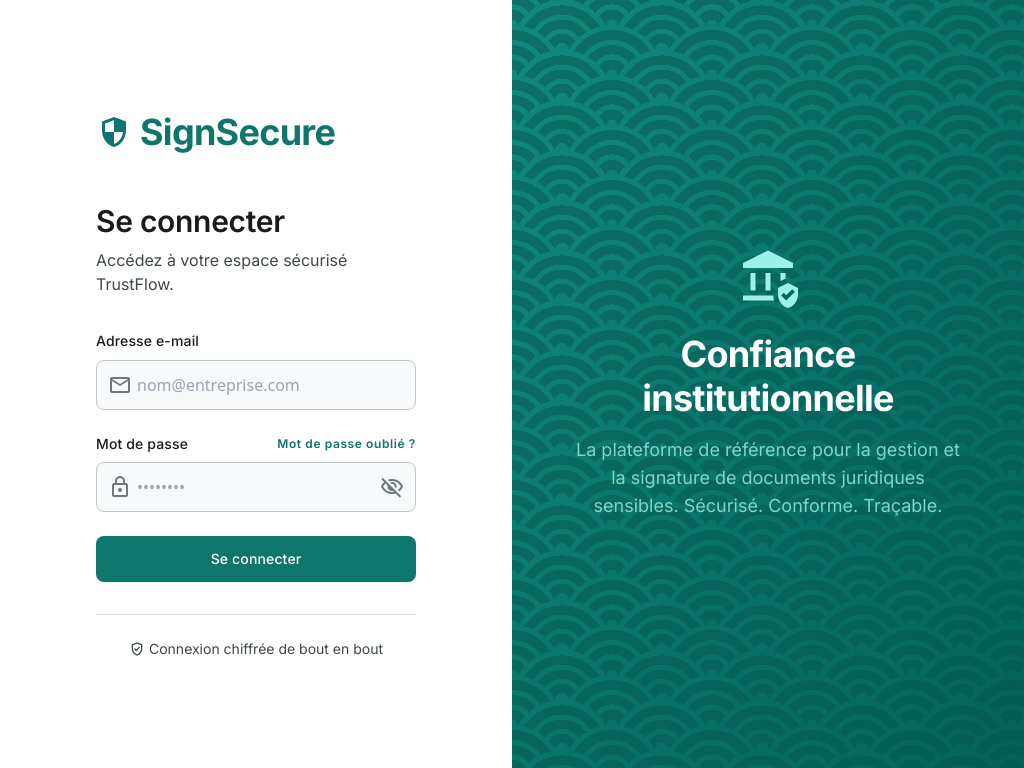
it: Login › surfaces the API error message instead of navigating away on failure
The width and height of the screenshot is (1024, 768).
Type "admin@entreprise.com" into the field labelled "Adresse e-mail" at (256, 384), box [96,360,416,410]
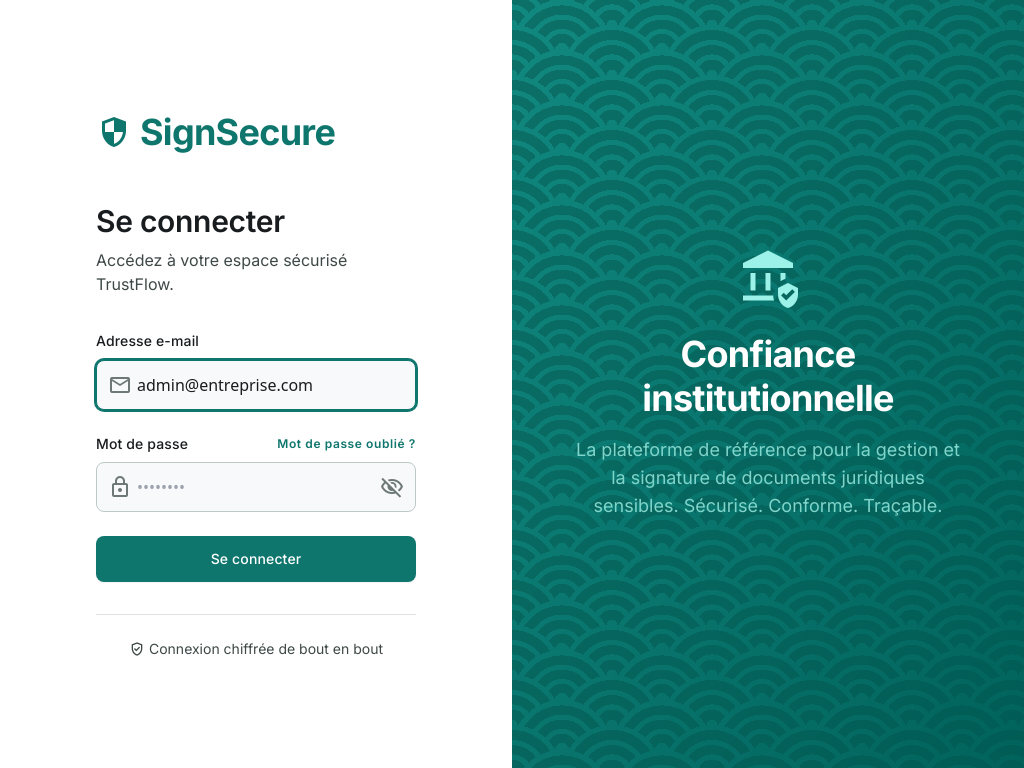
Type "wrong-password" into the password field labelled "Mot de passe" at (256, 486), box [96,462,416,512]
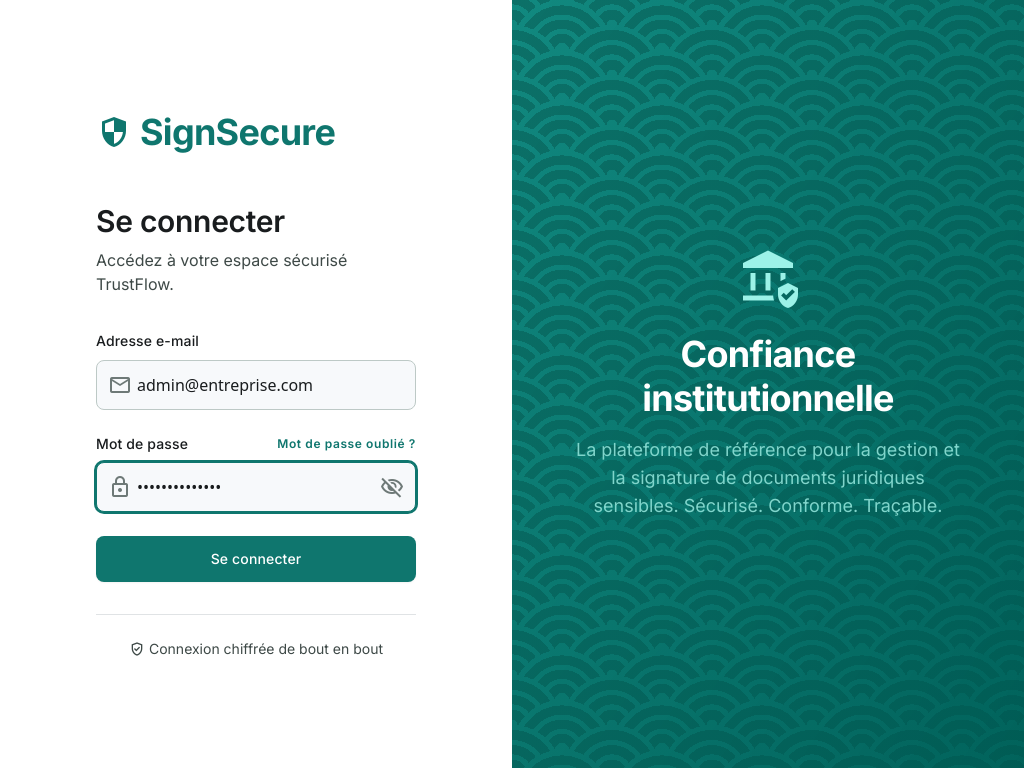
Click the button "Se connecter" at (256, 558), box [96,536,416,582]
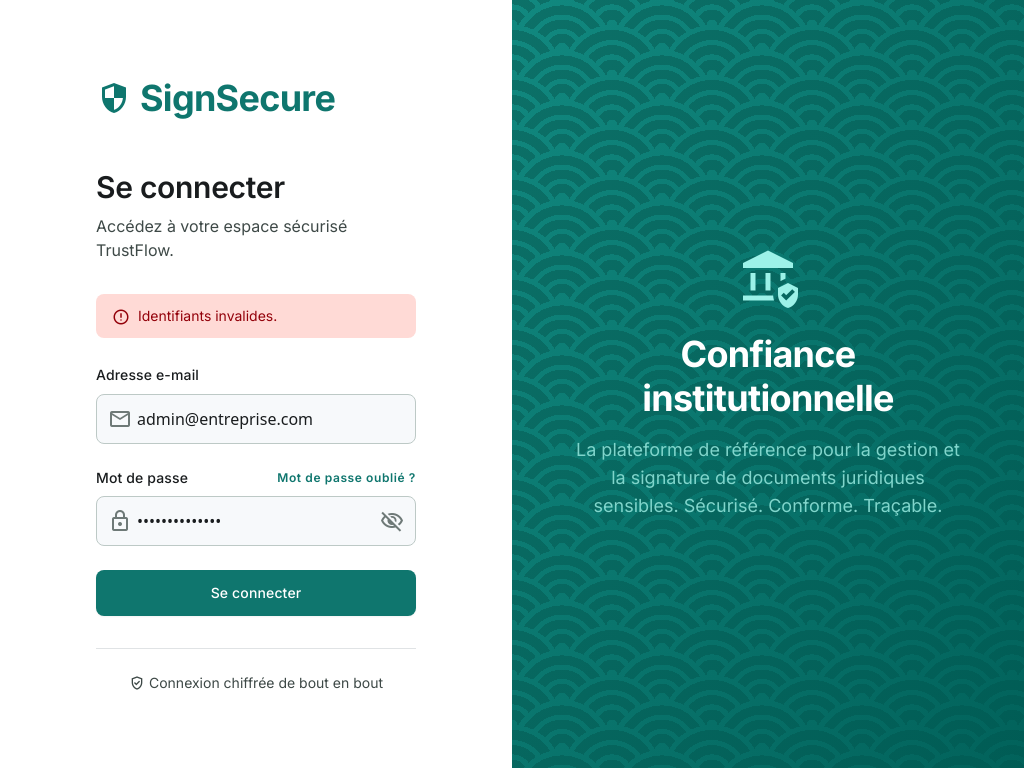
Expected: the text "Identifiants invalides." is shown, [138,306,277,326]
